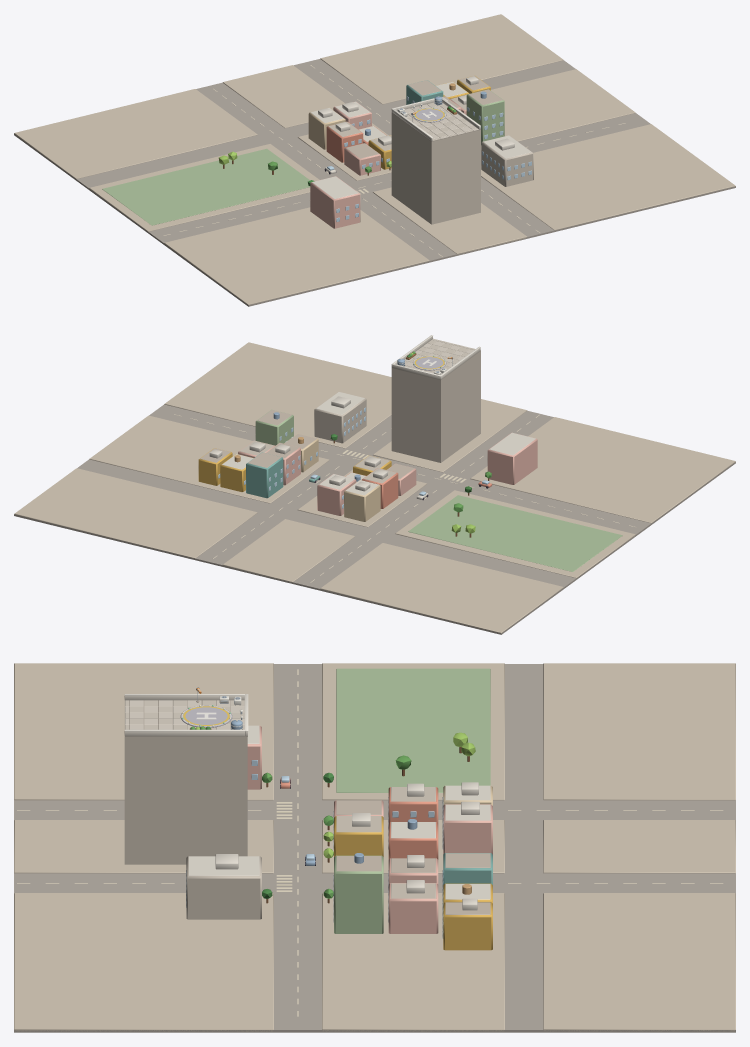
The model's file is heli_kit.glb.
The picture shows the model from 3 angles, top to bottom: view 1: azimuth 30°, elevation 25°; view 2: azimuth 150°, elevation 25°; view 3: azimuth 270°, elevation 25°; orthographic projection. The views are drawn at different scales.
Visible parts, largest first — view 1: CITY, ROOF; view 2: CITY, ROOF; view 3: CITY, ROOF, PAD.
Part boxes in pixels (<box>): CITY: <box>14,14,735,306</box>; ROOF: <box>391,97,480,224</box>; CITY: <box>14,342,735,634</box>; ROOF: <box>391,335,480,462</box>; CITY: <box>14,663,735,1032</box>; ROOF: <box>124,694,248,864</box>; PAD: <box>180,705,232,727</box>.
Bounding box in the file's own units: 180 × 33.7 × 150.
1 material, 1 textured.
